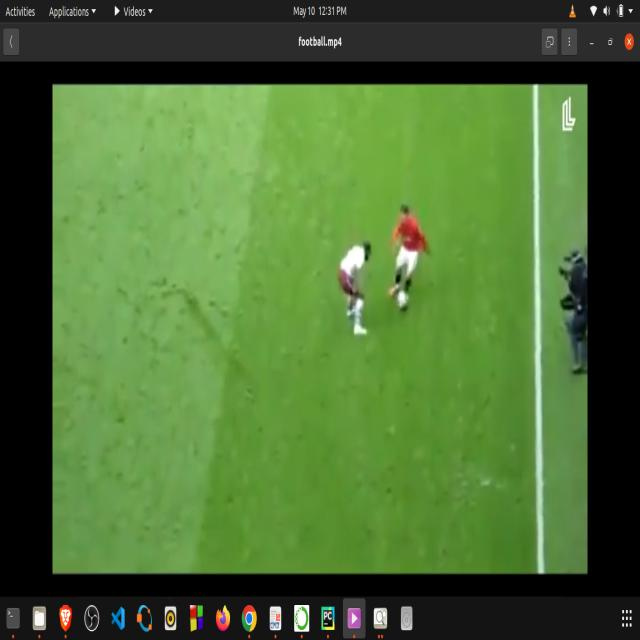Ball: (396, 287, 410, 315)
Refree: (554, 230, 588, 392)
football-players: (386, 192, 436, 329), (335, 222, 380, 350)
